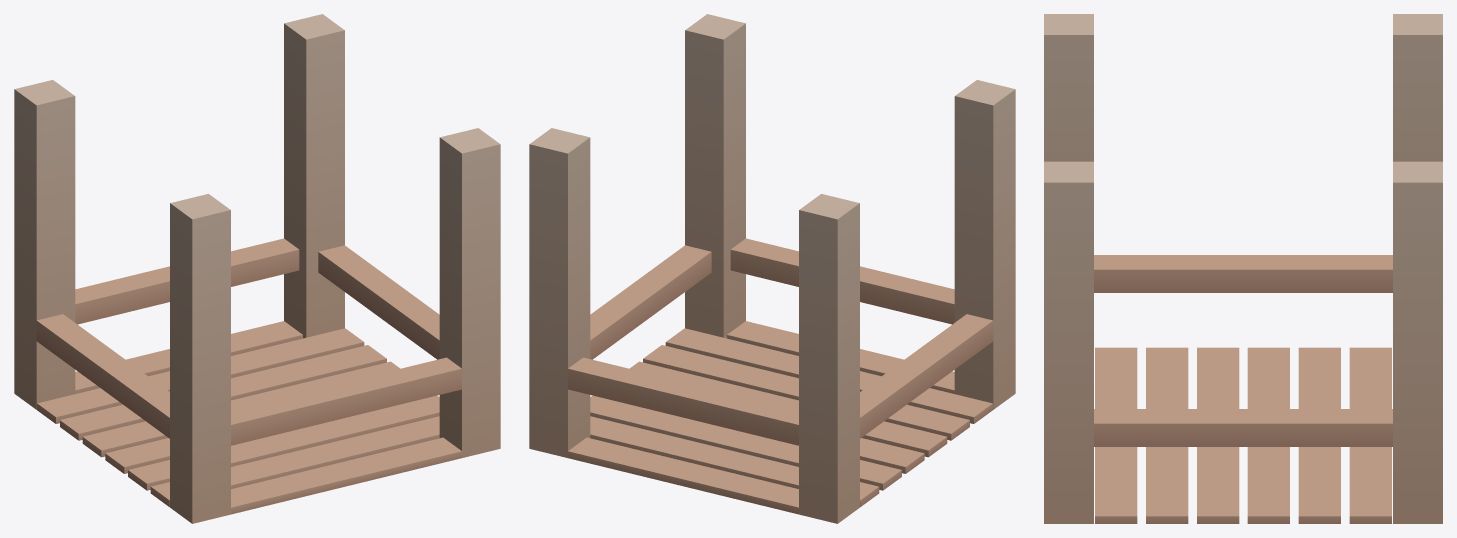
The model's file is tower-square-mid-open-simple.glb.
The picture shows the model from 3 angles, left to right: view 1: azimuth 30°, elevation 25°; view 2: azimuth 150°, elevation 25°; view 3: azimuth 270°, elevation 25°; orthographic projection. The views are drawn at different scales.
Parts seen in each view (by area): view 1: tower-square-mid-open-simple; view 2: tower-square-mid-open-simple; view 3: tower-square-mid-open-simple.
Boxes of the visible parts, x1,y1,x2,y2 form: tower-square-mid-open-simple: (14,14,500,523); tower-square-mid-open-simple: (529,14,1015,523); tower-square-mid-open-simple: (1044,14,1442,523).
Size of the model in its own units: 0.93 by 0.8782 by 0.93.
